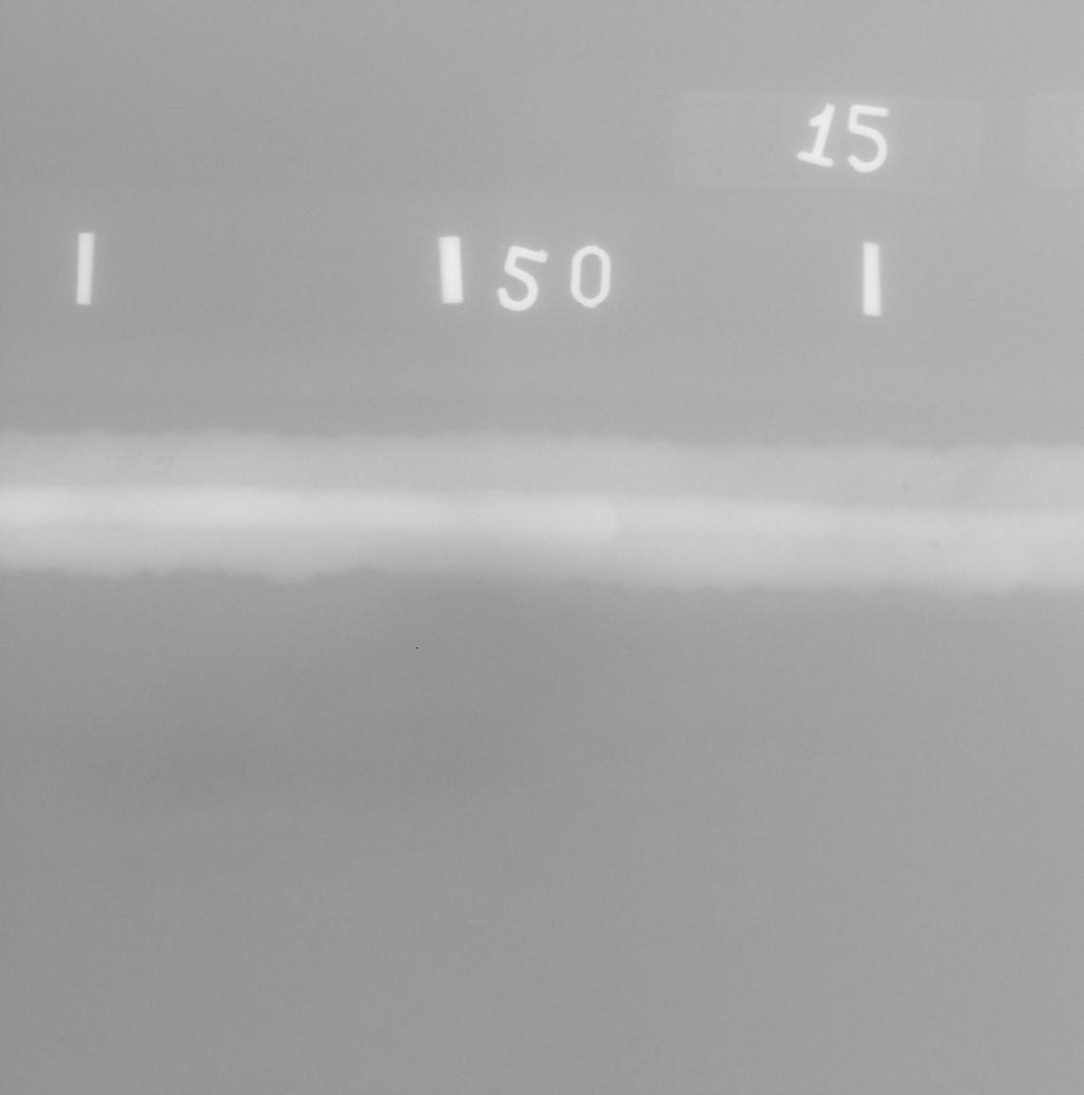Pore/Porosity: (932, 542, 939, 550), (728, 514, 734, 522), (902, 485, 908, 490), (654, 551, 658, 555), (729, 516, 733, 520), (602, 544, 606, 547)
